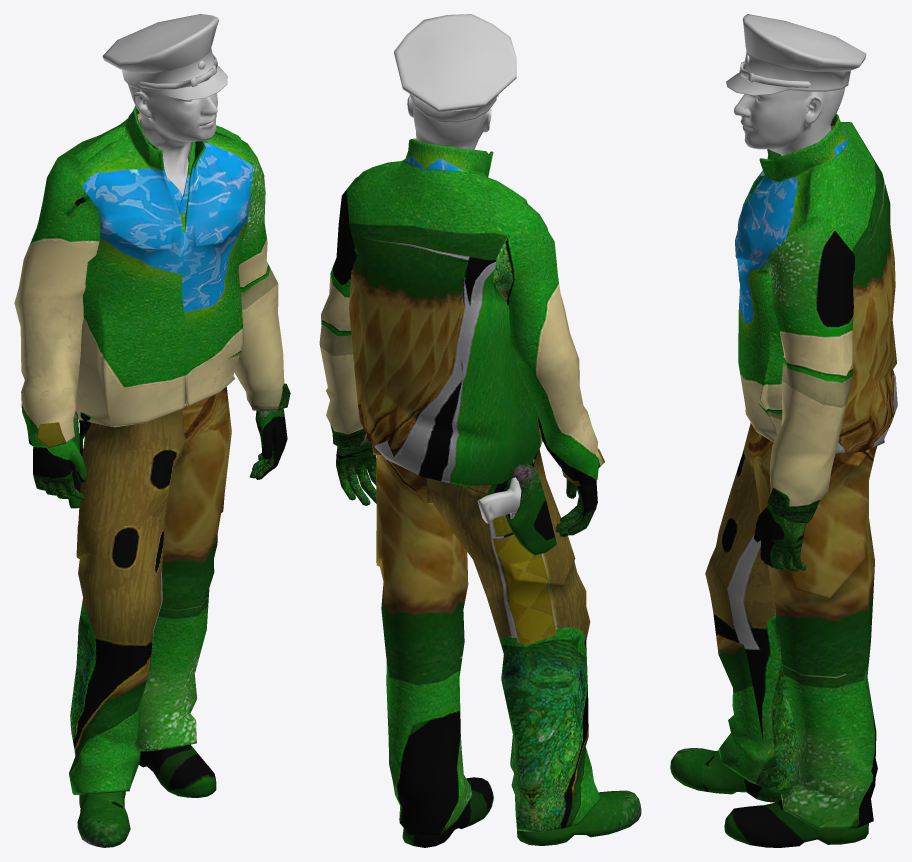
Rendered from Policia.fbx.
3 views of the same model, side by side, from view 1: azimuth 30°, elevation 25°; view 2: azimuth 150°, elevation 25°; view 3: azimuth 270°, elevation 25° (orthographic). The views are drawn at different scales.
Visible parts, largest first — view 1: Object_2, Object_4; view 2: Object_2, Object_4, Object_3; view 3: Object_2, Object_4.
Part boxes in pixels (left/top/right/bottom): Object_2: left=14, top=105, right=290, bottom=847; Object_4: left=102, top=14, right=227, bottom=195; Object_2: left=319, top=138, right=641, bottom=847; Object_4: left=394, top=14, right=516, bottom=149; Object_3: left=477, top=477, right=521, bottom=523; Object_2: left=670, top=114, right=897, bottom=847; Object_4: left=726, top=14, right=866, bottom=155.
Size of the model in its own units: 129 by 368 by 92.67.
